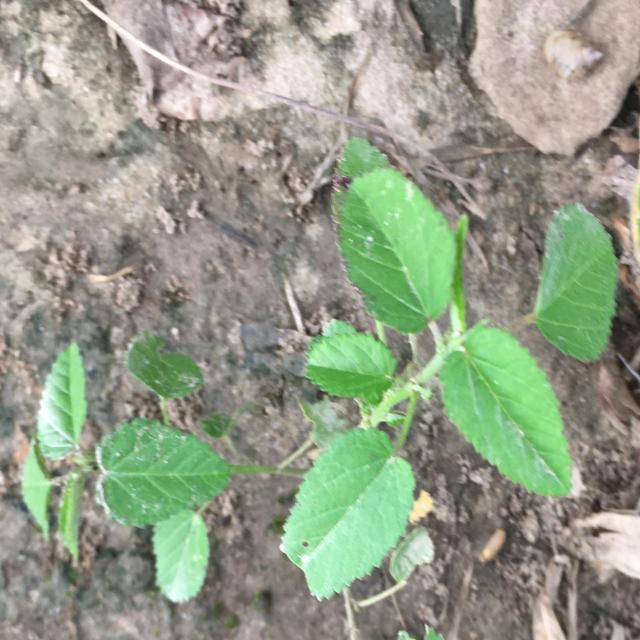PricklySida: (21, 136, 619, 606)
